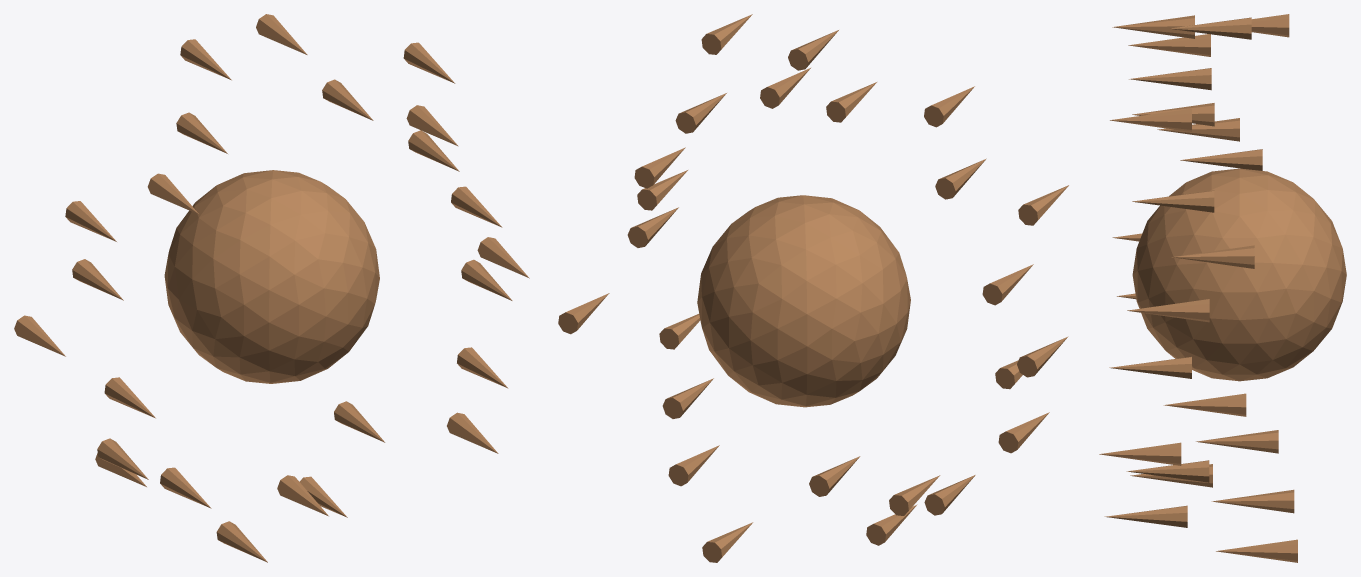
File: nature_152.glb
3 renders of one model, left to right at view 1: azimuth 30°, elevation 25°; view 2: azimuth 150°, elevation 25°; view 3: azimuth 270°, elevation 25°, orthographic.
Visible parts, largest first — view 1: world; view 2: world; view 3: world.
Part boxes in pixels (<box>): world: <box>14,14,529,562</box>; world: <box>558,14,1068,562</box>; world: <box>1099,14,1346,562</box>.
Bounding box in the file's own units: 2.29 × 2.38 × 1.04.
